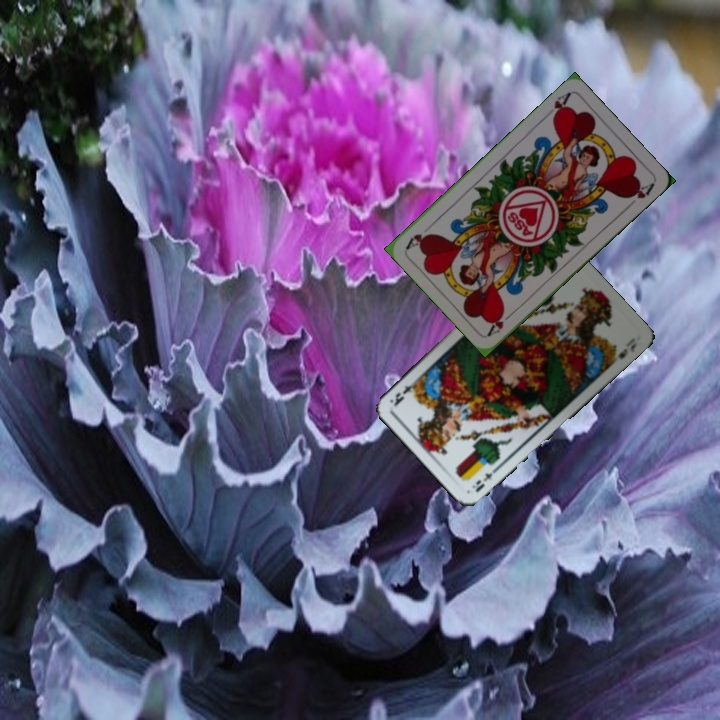EK: (468, 463, 501, 495)
HA: (540, 89, 573, 124), (484, 307, 517, 338)
